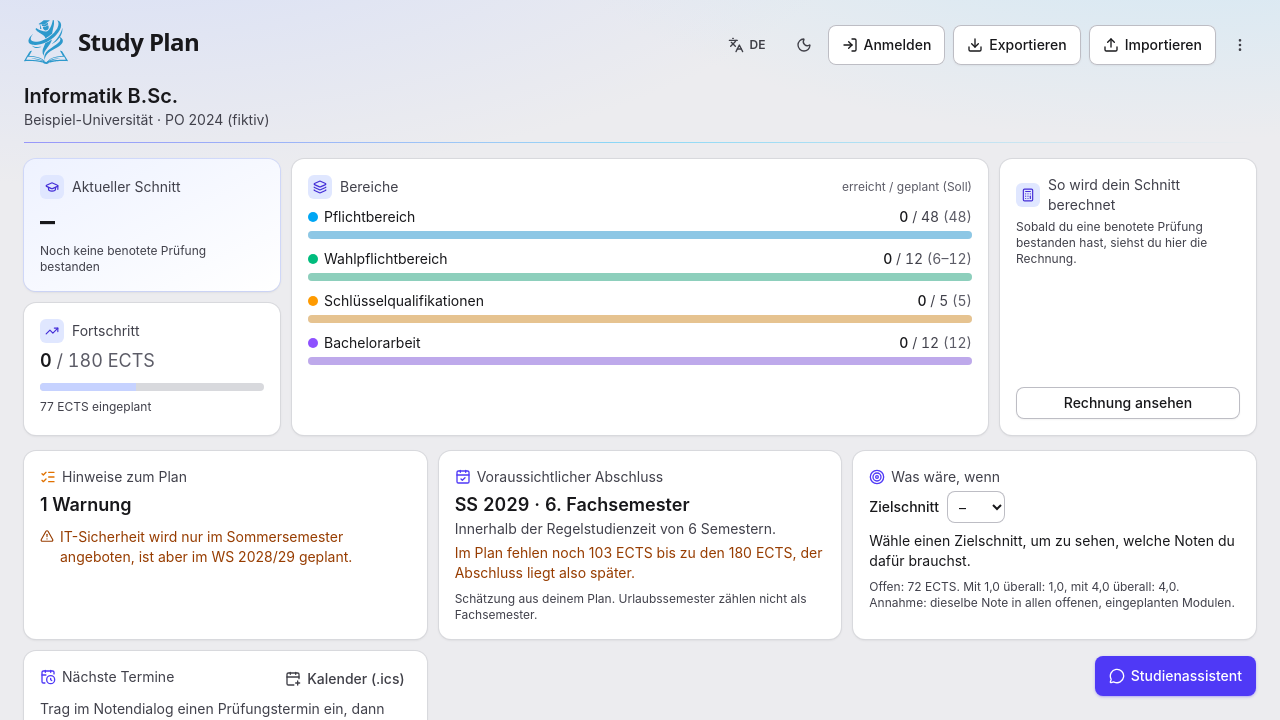
it: planning features on the board › changes the start of studies from the header menu and warns about terms that no longer fit
The width and height of the screenshot is (1280, 720).
Click the button named "Weitere Aktionen".
click(1240, 45)  # box [1224, 29, 1256, 61]
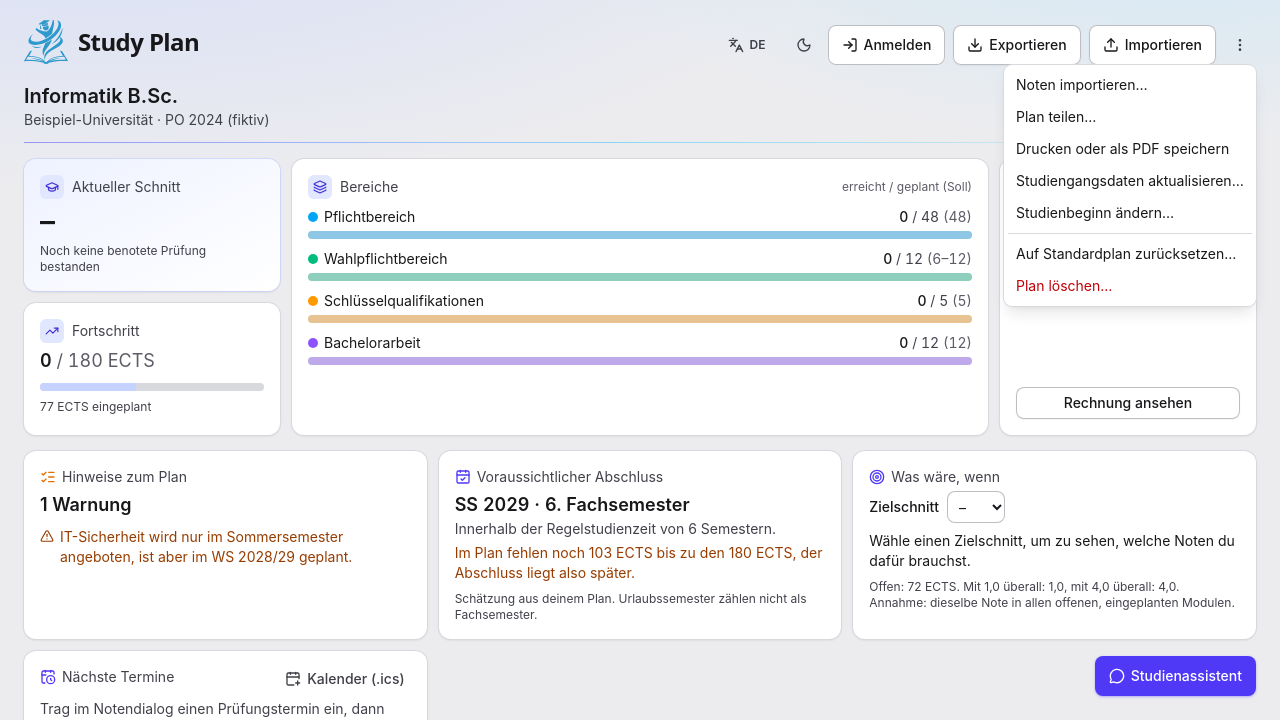
Click the menu item "Studienbeginn ändern…".
click(1095, 212)  # box [1016, 204, 1174, 221]
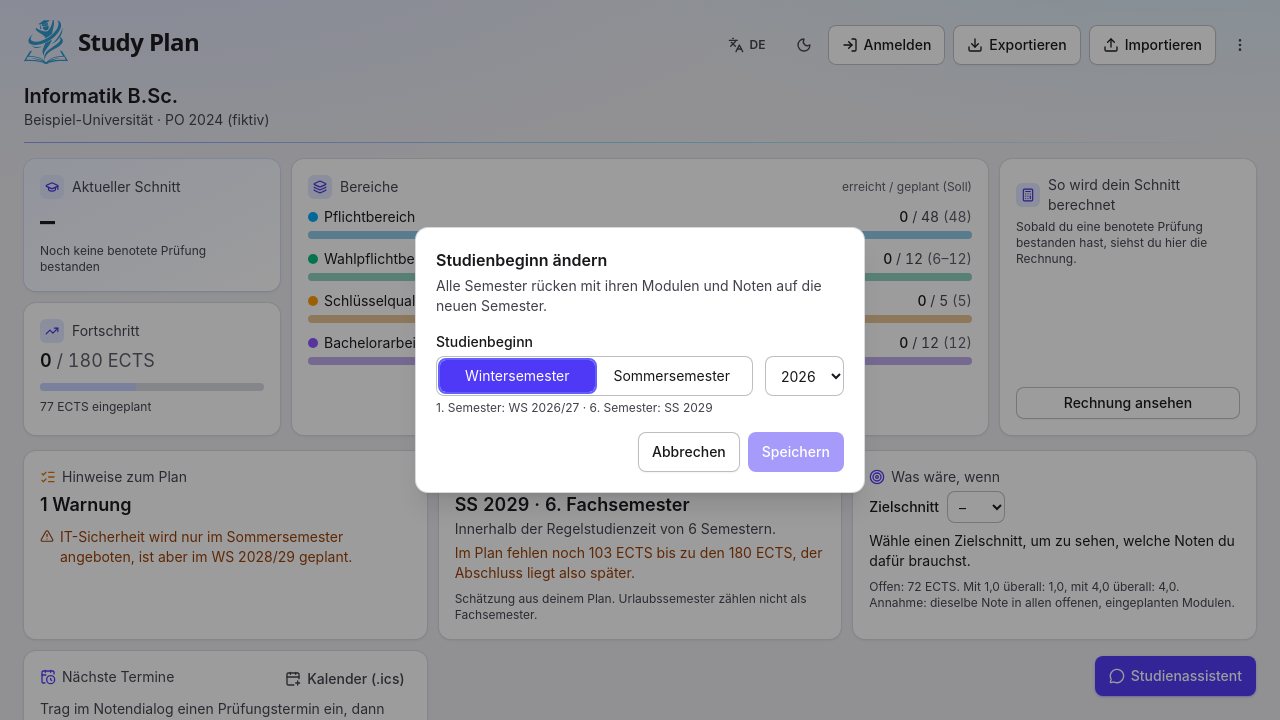
Expected: the button "Speichern" is disabled, [748, 432, 844, 472]
Click the radio button labelled "Sommersemester".
click(672, 376)  # box [614, 367, 730, 384]
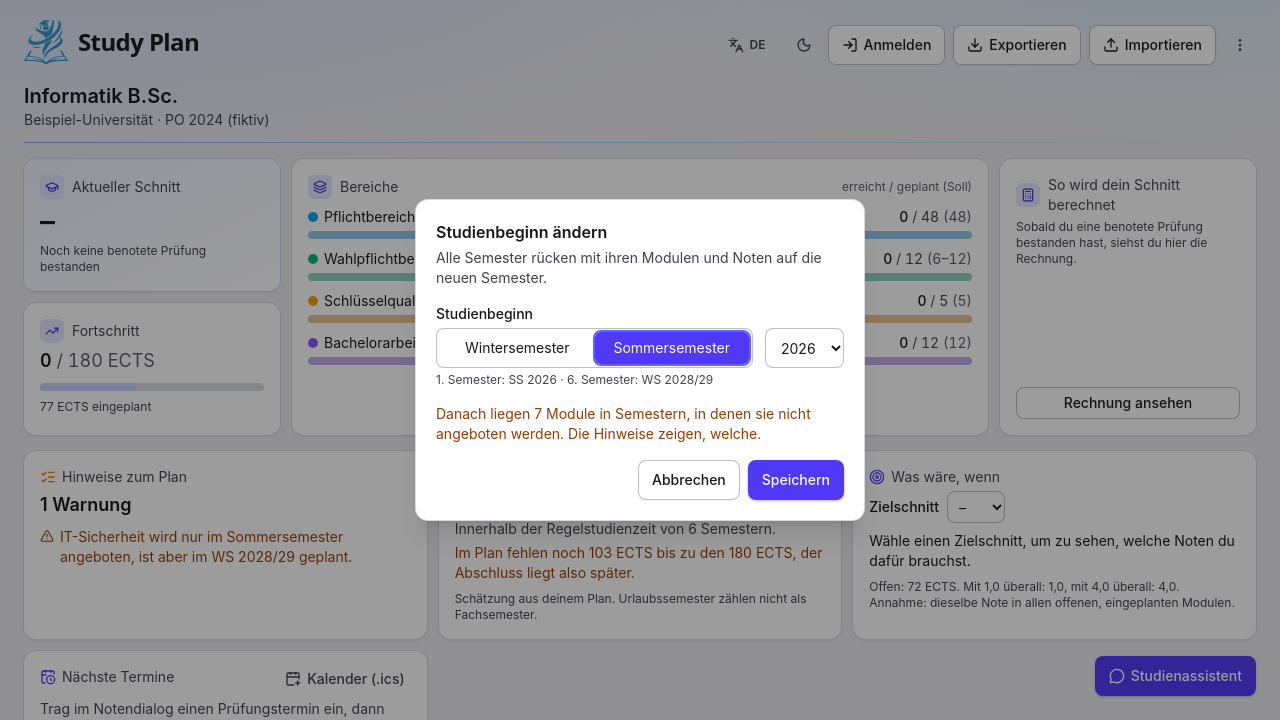
Expected: the message shows "nicht angeboten", [436, 405, 811, 442]
Click the button "Speichern".
click(796, 480)  # box [748, 460, 844, 500]
(page scrolled)
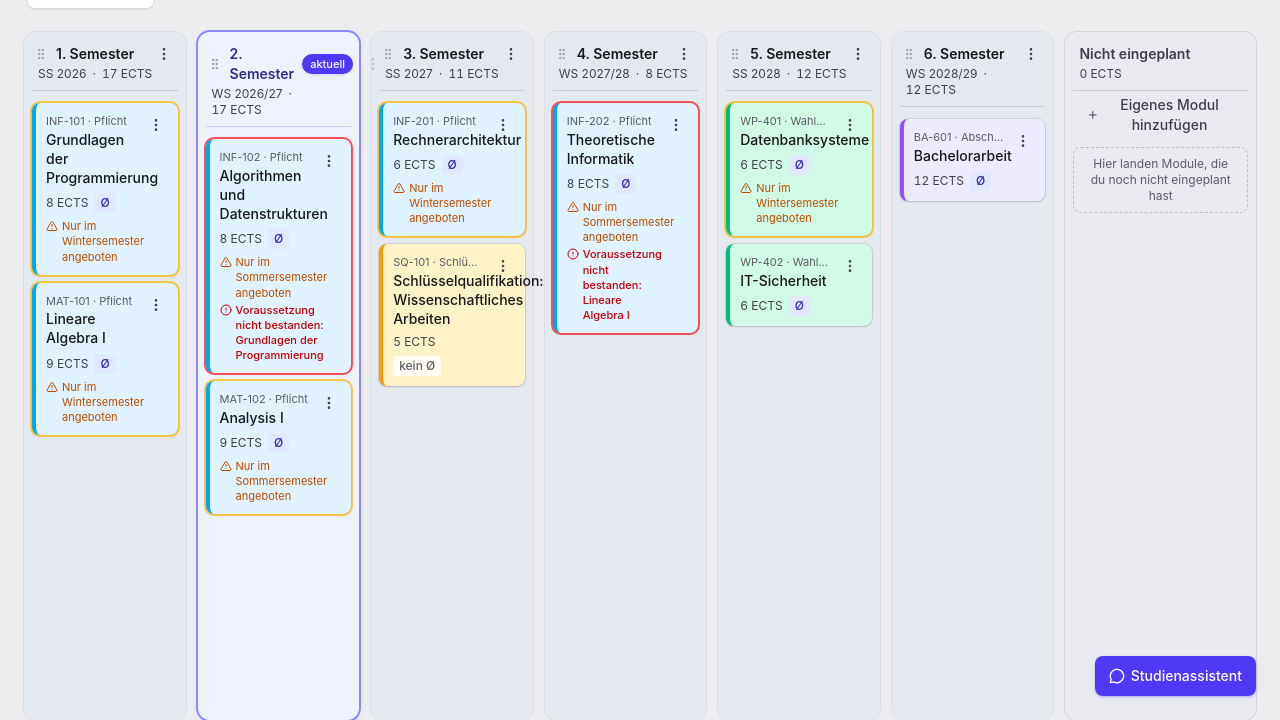
Expected: the heading "Studienbeginn ändern" is gone
